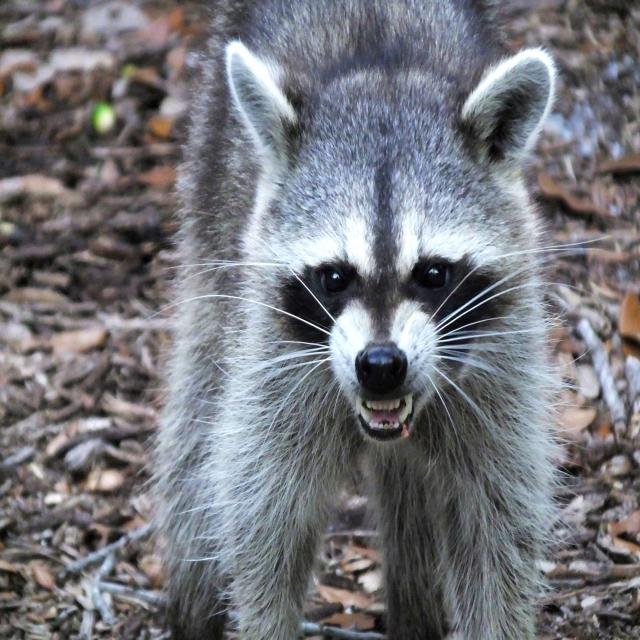raccoon: (153, 0, 562, 640)
